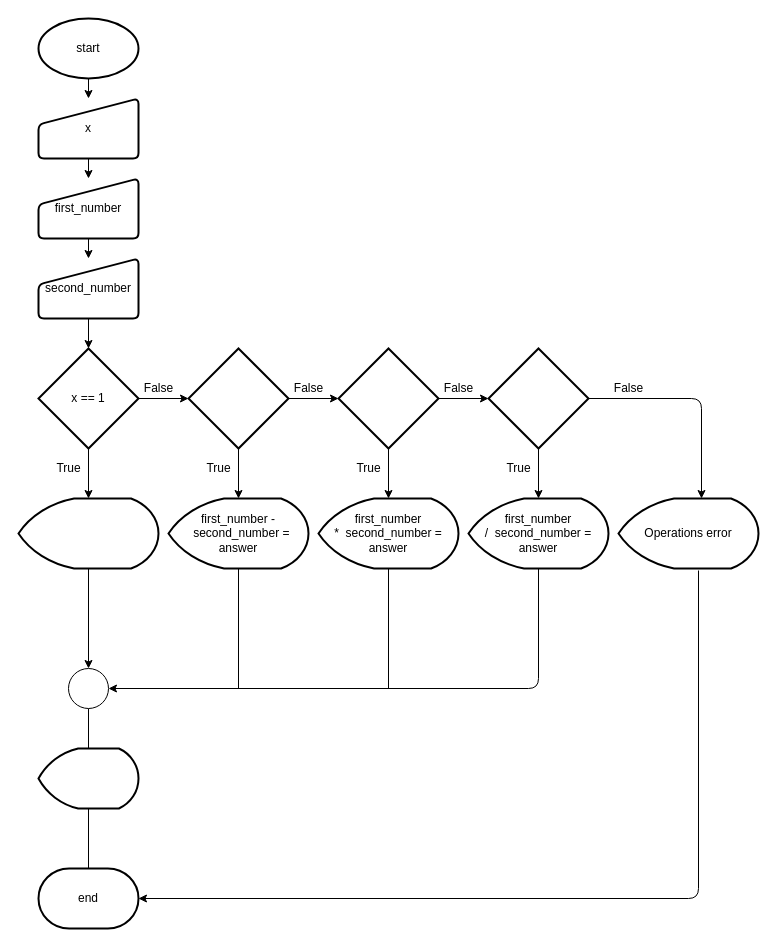
Image size: 776x946. Some labels were removed from this diagram. Each missing label, with the centre of its shape:
answer: the point at 88,778
first_number + second_number = answer: the point at 88,533
x == 2: the point at 238,398
x == 3: the point at 388,398
x == 4: the point at 538,398
